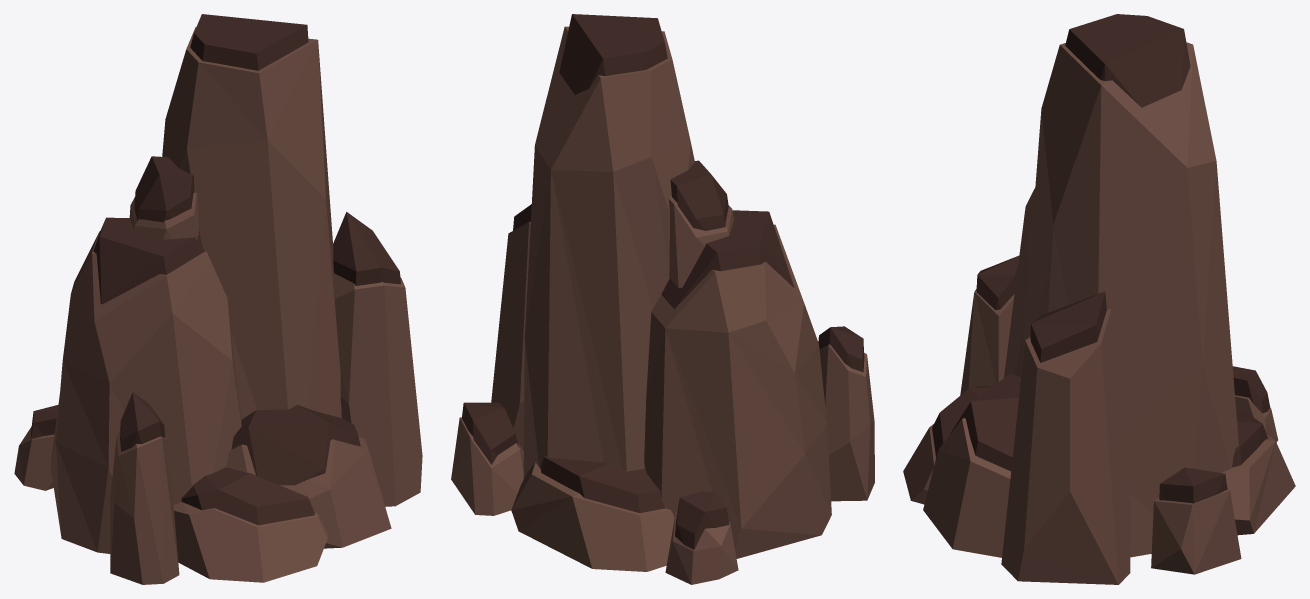
Rendered from Brown_rock_012.fbx.
3 renders of one model, left to right at view 1: azimuth 30°, elevation 25°; view 2: azimuth 150°, elevation 25°; view 3: azimuth 270°, elevation 25°, orthographic. The views are drawn at different scales.
Parts seen in each view (by area): view 1: Brown_rock_012; view 2: Brown_rock_012; view 3: Brown_rock_012.
Part boxes in pixels (x1,y1,x2,y2): Brown_rock_012: (14, 14, 422, 584); Brown_rock_012: (451, 14, 874, 584); Brown_rock_012: (903, 14, 1295, 584).
Bounding box in the file's own units: 894 × 865 × 1167.
